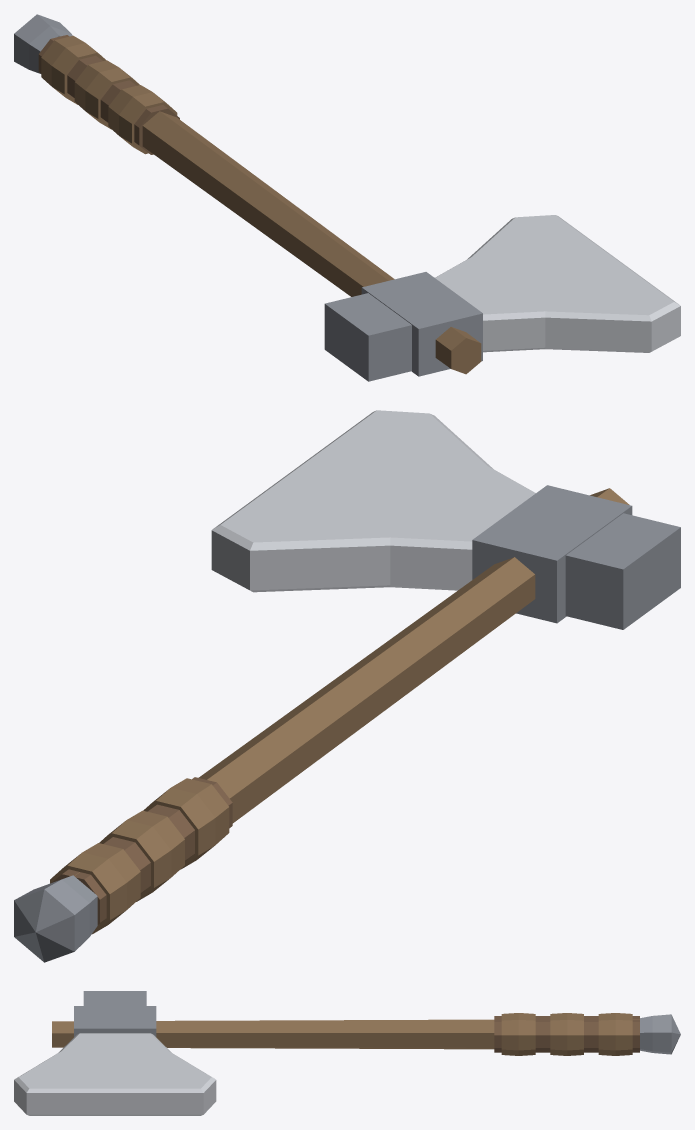
Rendered from woodcutter.glb.
The picture shows the model from 3 angles, top to bottom: view 1: azimuth 30°, elevation 25°; view 2: azimuth 150°, elevation 25°; view 3: azimuth 270°, elevation 25°; orthographic projection. The views are drawn at different scales.
Parts seen in each view (by area): view 1: woodcutter; view 2: woodcutter; view 3: woodcutter.
Boxes of the visible parts, <box> form: woodcutter: <box>14,14,680,381</box>; woodcutter: <box>14,410,680,962</box>; woodcutter: <box>14,991,680,1115</box>.
Size of the model in its own units: 0.36 by 0.0702 by 1.05.
